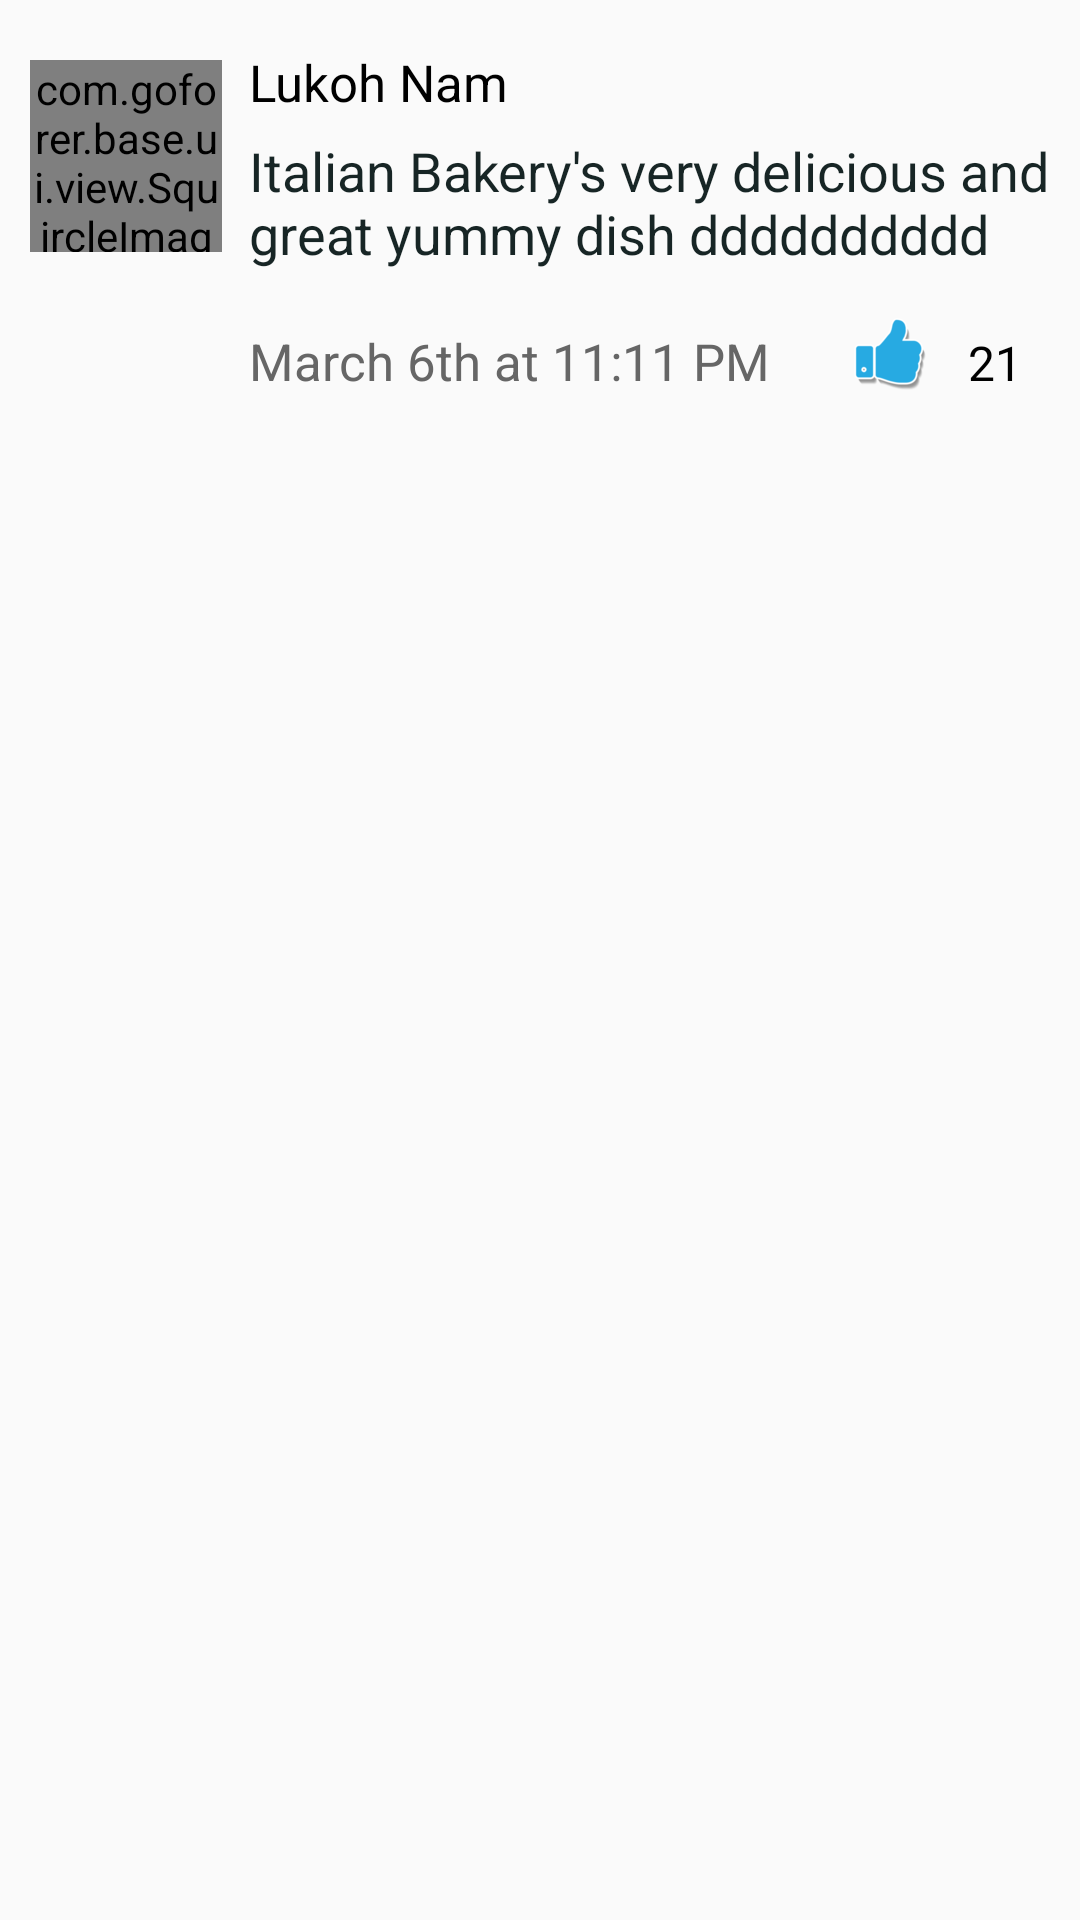

Where to tap for icons on this 1080×1920 app screen, as point (x, y):
like: point (890, 354)
